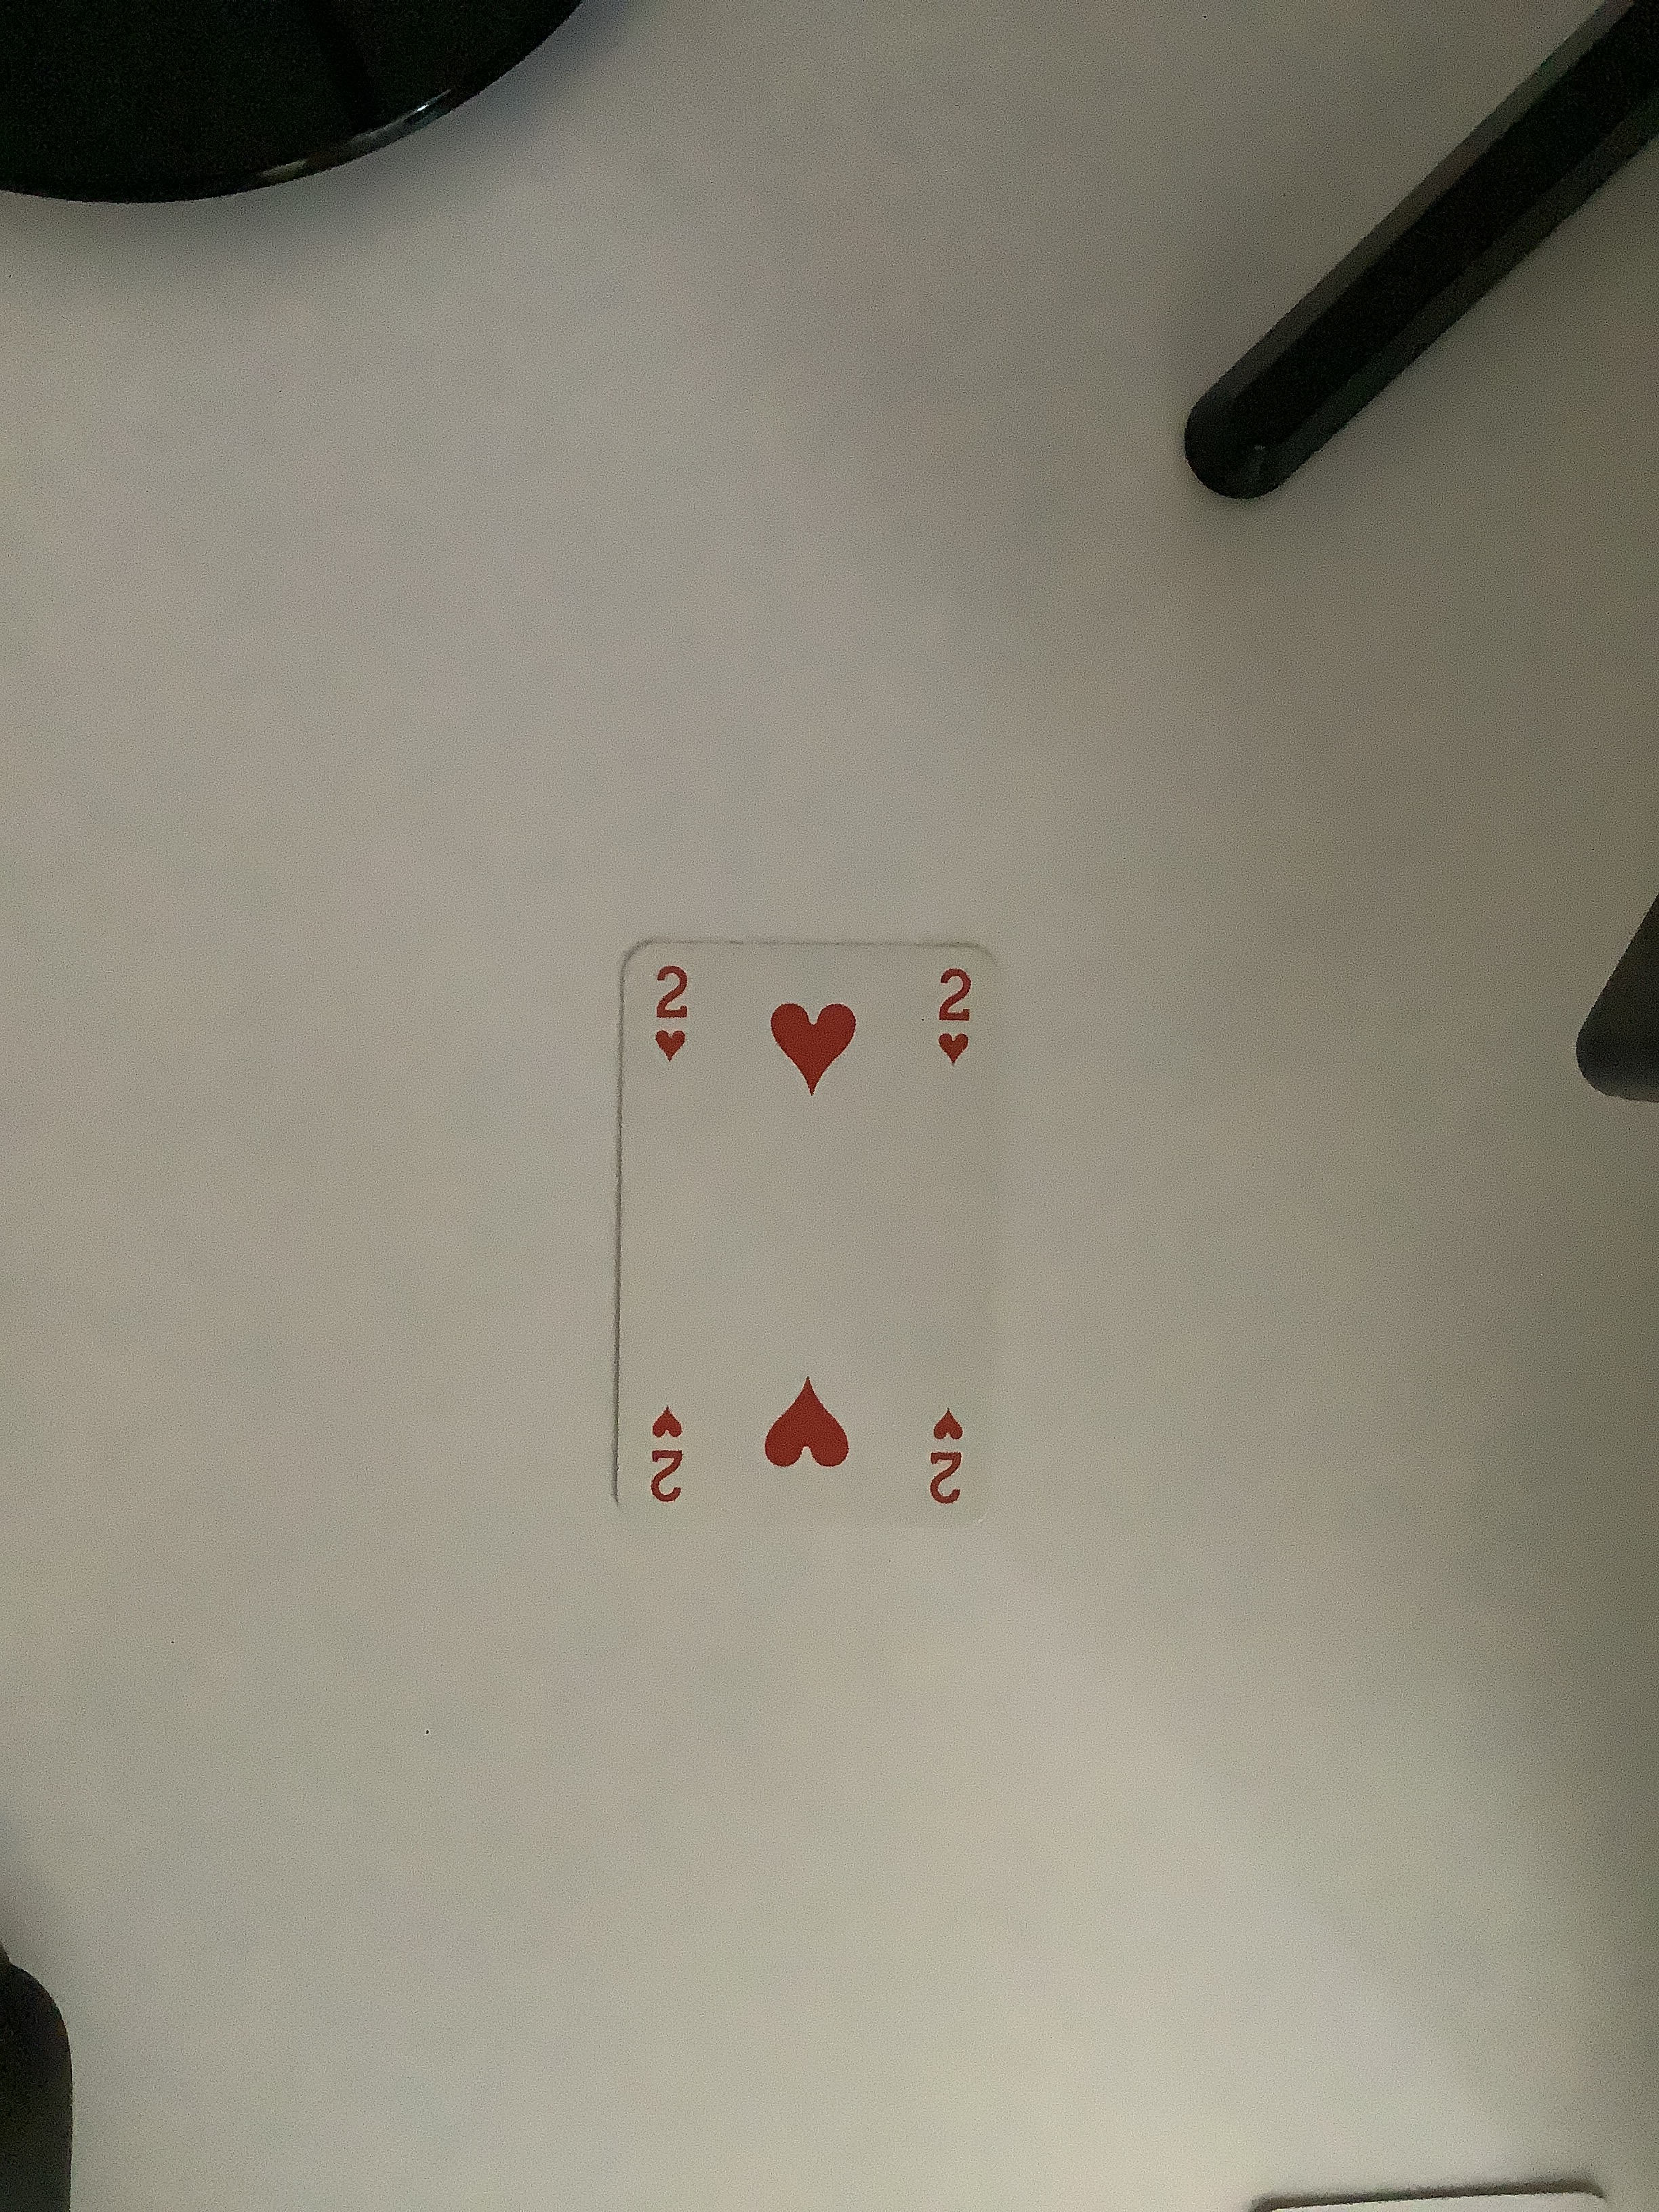♥ 2: (601, 920, 1032, 1554), (819, 751, 836, 765)
